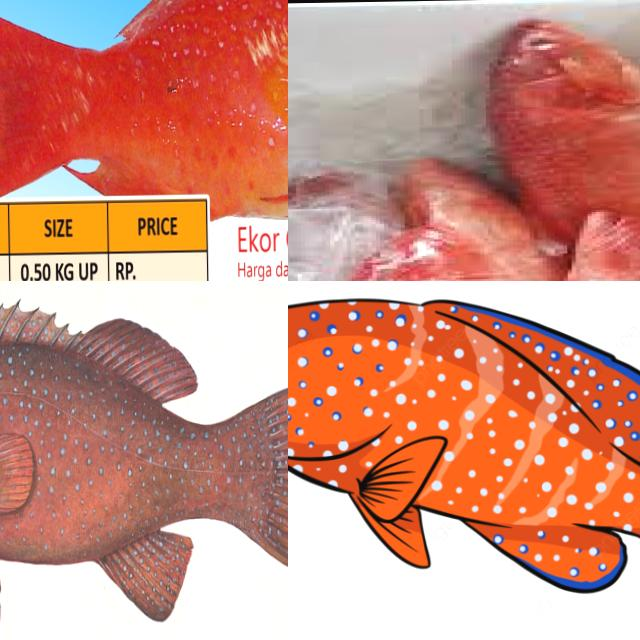Plectropomus-leopardus: (288, 281, 640, 638), (0, 281, 288, 640), (0, 0, 288, 209), (288, 163, 640, 281), (499, 0, 640, 281)
